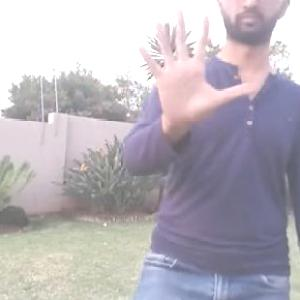follow_hand: (132, 4, 263, 128)
